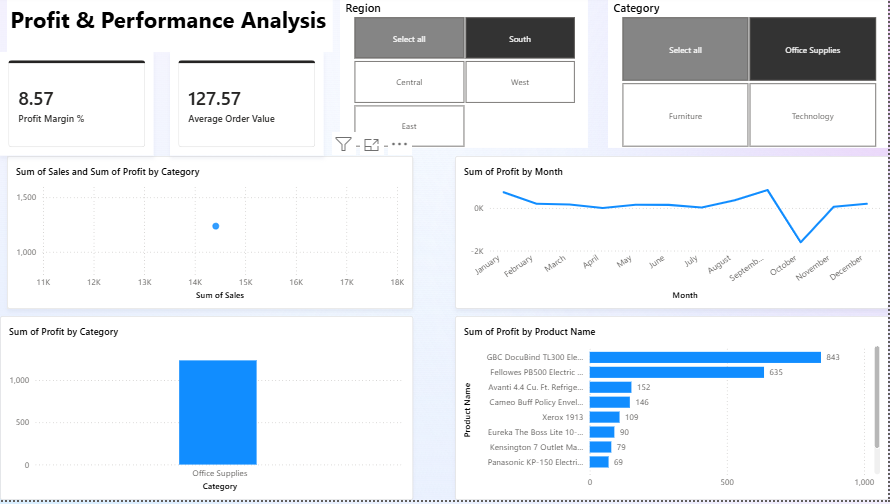

What the dashboard file says about the page in this screenshot:
{"tool":"powerbi","page":{"name":"Page 4","canvas":[1280,720],"ordinal":3},"visuals":[{"type":"textbox","box":[10.1,0,469.4,74.9],"z":0},{"type":"slicer","fields":{"Values":["samplesuperstore.Region"]},"box":[489.6,0,357.1,213.1],"z":1000},{"type":"slicer","fields":{"Values":["samplesuperstore.Category"]},"box":[875.5,0,404.6,213.1],"z":2000},{"type":"scatterChart","fields":{"X":["Sum(samplesuperstore.Sales)"],"Y":["Sum(samplesuperstore.Profit)"],"Category":["samplesuperstore.Category"]},"box":[10.1,224.6,584.6,220.3],"z":3000},{"type":"clusteredColumnChart","fields":{"Category":["samplesuperstore.Category"],"Y":["Sum(samplesuperstore.Profit)"]},"box":[0,455,594.7,265],"z":4000},{"type":"lineChart","fields":{"Category":["samplesuperstore.Order Date.Variation.Date Hierarchy.Month"],"Y":["Sum(samplesuperstore.Profit)"]},"box":[655.2,224.6,625,220.3],"z":5000},{"type":"clusteredBarChart","fields":{"Category":["samplesuperstore.Product Name"],"Y":["Sum(samplesuperstore.Profit)"]},"box":[655.2,455,625,265],"z":6000},{"type":"cardVisual","fields":{"Data":["samplesuperstore.Profit Margin %"]},"box":[0,74.9,221.8,149.8],"z":7000},{"type":"cardVisual","fields":{"Data":["samplesuperstore.Average Order Value"]},"box":[244.8,74.9,221.8,149.8],"z":8000}]}

Visuals, with their boxes in screenshot pixels (x1, y1, x2, y2), scaled from the page's 1280x720 canvas onto the 890x504 screenshot:
textbox: rect(7, 0, 333, 52)
slicer - samplesuperstore.Region: rect(340, 0, 589, 149)
slicer - samplesuperstore.Category: rect(609, 0, 889, 149)
scatterChart - Sum(samplesuperstore.Sales) x Sum(samplesuperstore.Profit): rect(7, 157, 414, 311)
clusteredColumnChart - samplesuperstore.Category x Sum(samplesuperstore.Profit): rect(0, 318, 414, 503)
lineChart - samplesuperstore.Order Date.Variation.Date Hierarchy.Month x Sum(samplesuperstore.Profit): rect(456, 157, 889, 311)
clusteredBarChart - samplesuperstore.Product Name x Sum(samplesuperstore.Profit): rect(456, 318, 889, 503)
cardVisual - samplesuperstore.Profit Margin %: rect(0, 52, 154, 157)
cardVisual - samplesuperstore.Average Order Value: rect(170, 52, 324, 157)
